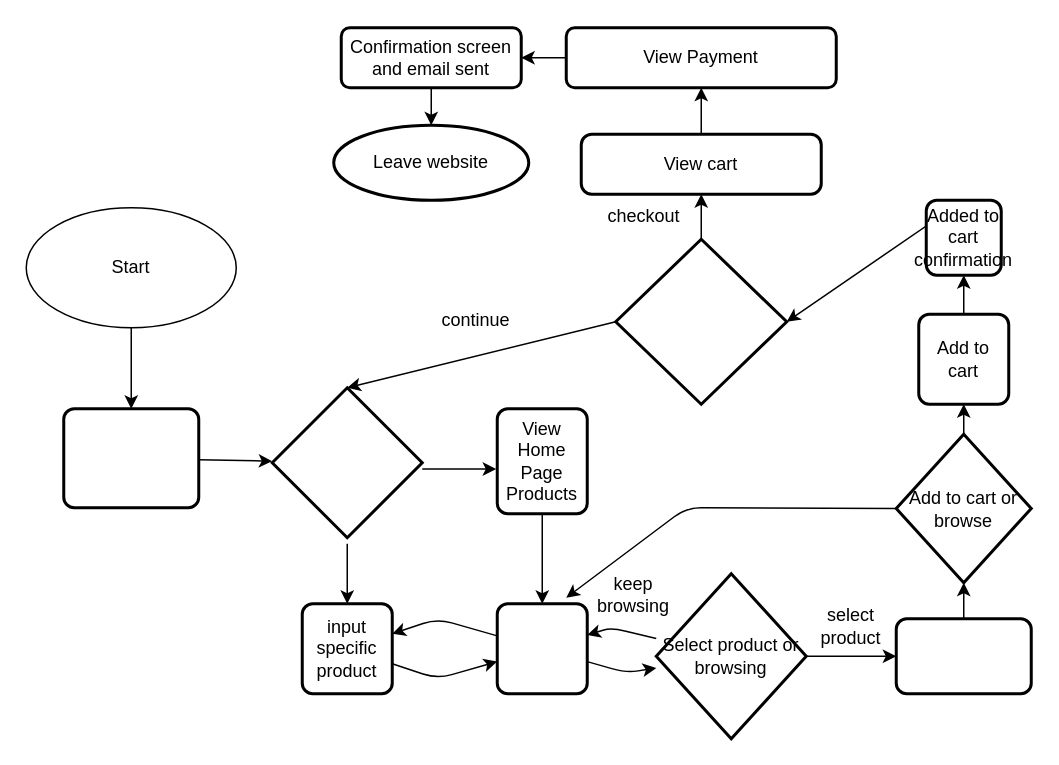
Some shapes in this 1059 by 765 pixel diagram are drawn without their labels. The box of each missing label's shape, as (x1, y1, x2, y2) in pixels:
Browse Products: (495, 602, 588, 694)
Checkout or conitnue shopping: (614, 237, 788, 405)
products webpage opens: (894, 616, 1032, 694)
Search or browse: (270, 386, 423, 538)
User enters page: (62, 406, 200, 508)
